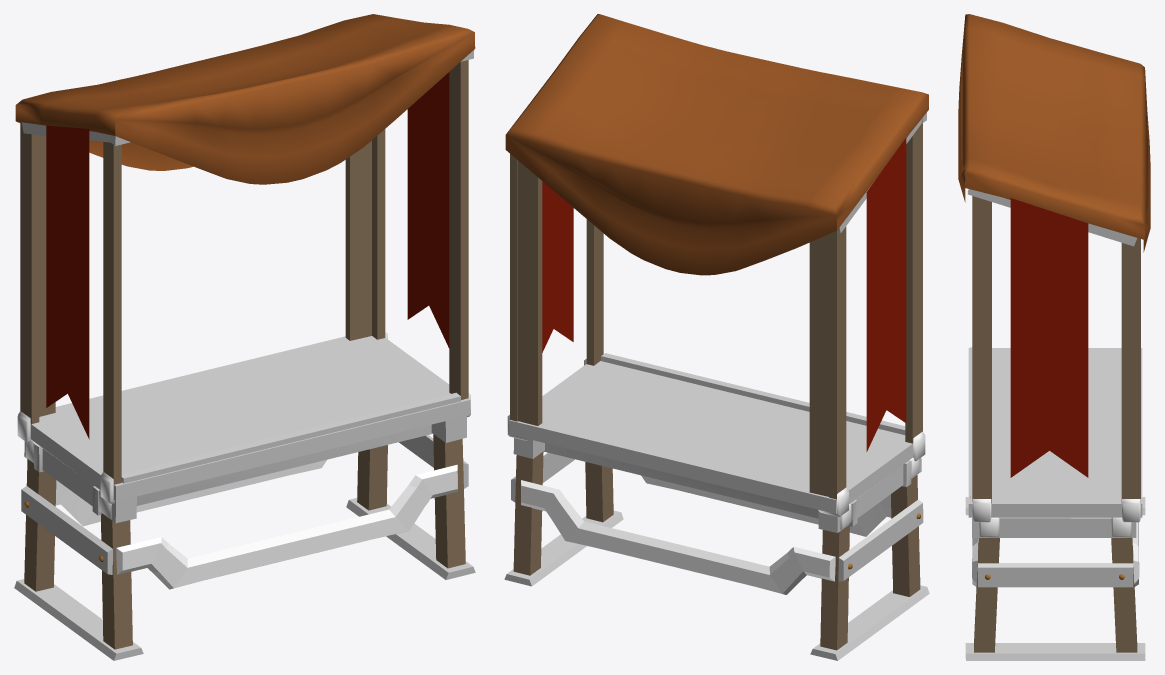
The model's file is eastbrook_stall.glb.
3 renders of one model, left to right at view 1: azimuth 30°, elevation 25°; view 2: azimuth 150°, elevation 25°; view 3: azimuth 270°, elevation 25°, orthographic. The views are drawn at different scales.
Parts seen in each view (by area): view 1: props/MI_Trim_Furniture, props/MI_Banner, props/MI_Trim_Metal; view 2: props/MI_Banner, props/MI_Trim_Furniture, props/MI_Trim_Metal; view 3: props/MI_Banner, props/MI_Trim_Furniture, props/MI_Trim_Metal.
Boxes of the visible parts, x1,y1,x2,y2 form: props/MI_Trim_Furniture: (14,50,475,660); props/MI_Banner: (15,14,475,439); props/MI_Trim_Metal: (17,332,470,589); props/MI_Banner: (505,14,928,451); props/MI_Trim_Furniture: (504,112,929,660); props/MI_Trim_Metal: (507,359,925,594); props/MI_Banner: (958,14,1150,477); props/MI_Trim_Furniture: (965,189,1145,660); props/MI_Trim_Metal: (972,499,1140,586).
Bounding box in the file's own units: 1.84 × 2.63 × 0.9323.
